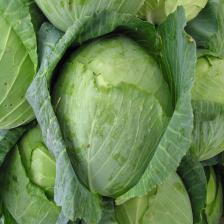cabbage: (26, 5, 197, 224)
